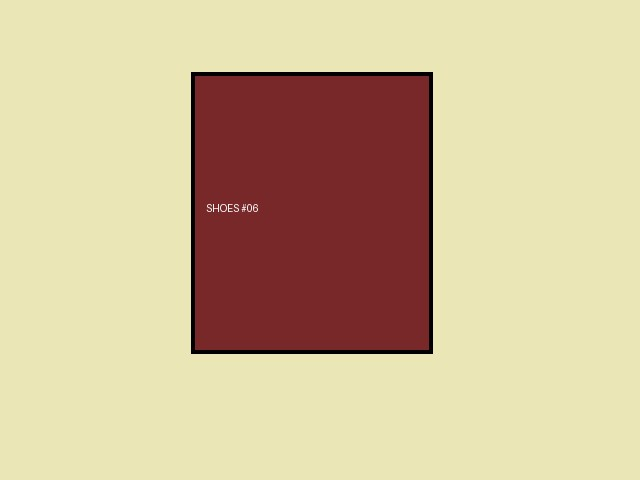shoes: (191, 72, 432, 353)
